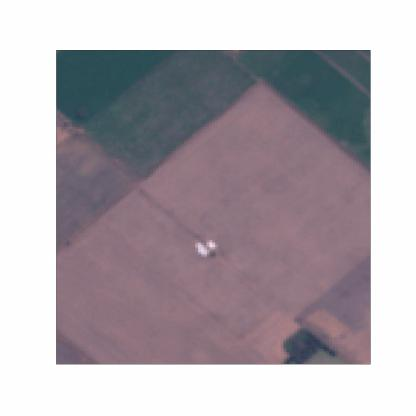silobolsa: (191, 241, 214, 259)
